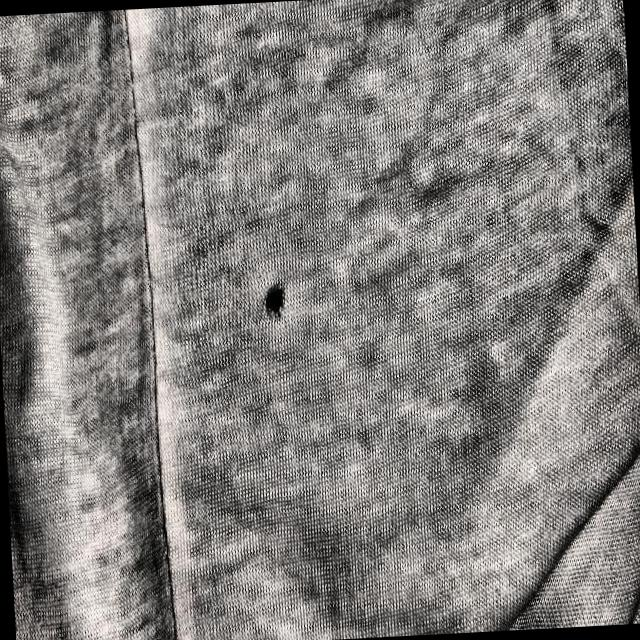cut: (260, 273, 292, 327)
